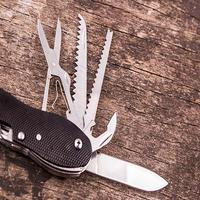knife: (28, 12, 184, 196)
